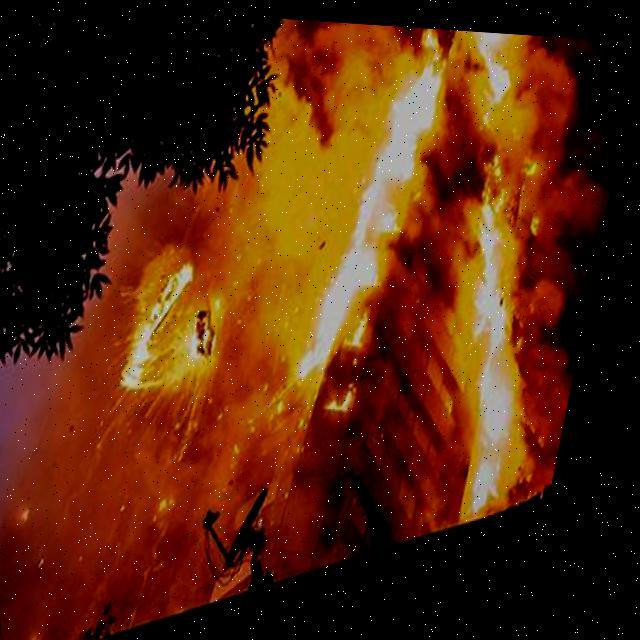Fire: (409, 34, 596, 500), (312, 34, 453, 388), (130, 252, 247, 392)
